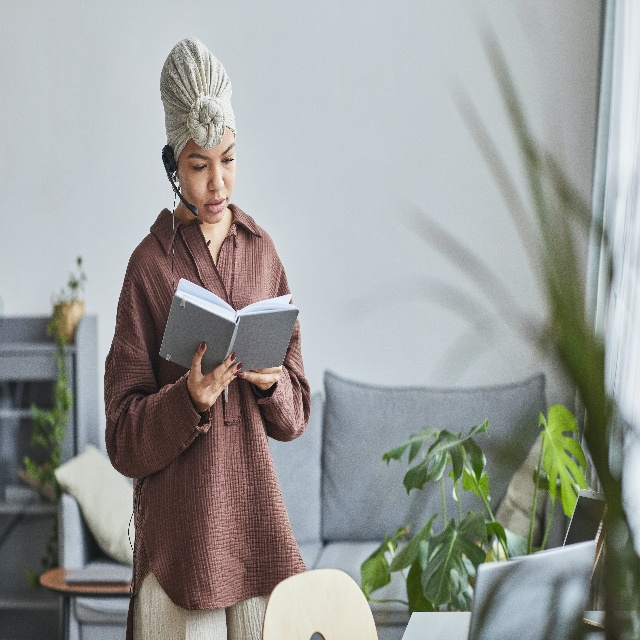Sin_guantes: (185, 339, 241, 410), (238, 364, 282, 393)
